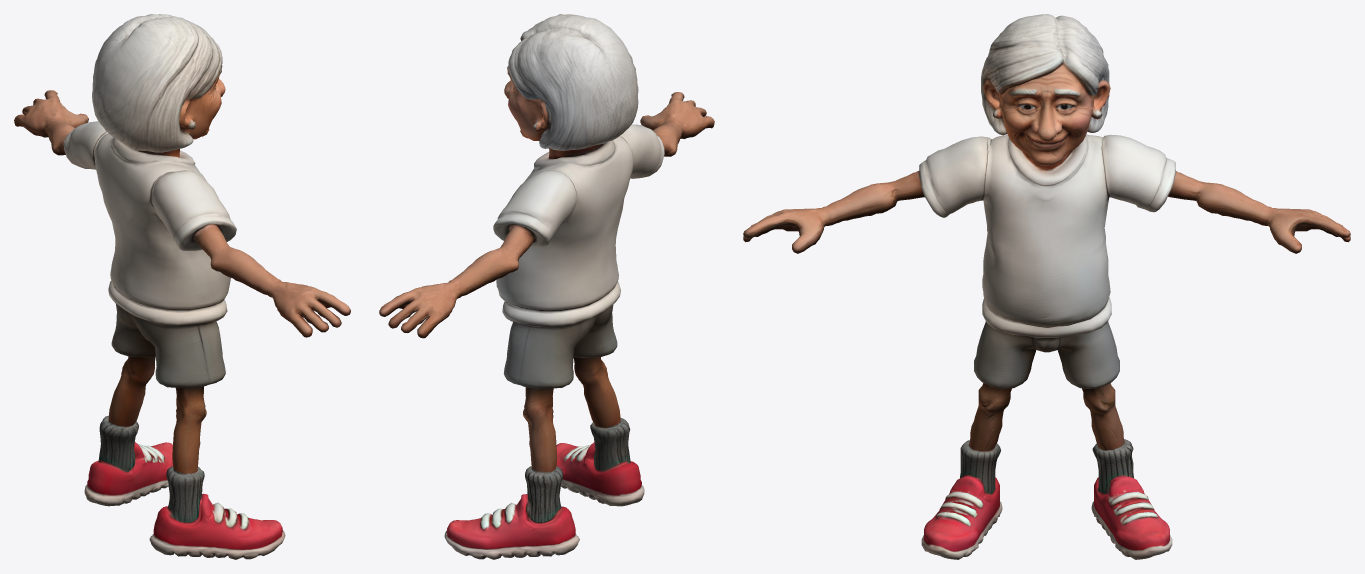
The picture shows the model from 3 angles, left to right: view 1: azimuth 30°, elevation 25°; view 2: azimuth 150°, elevation 25°; view 3: azimuth 270°, elevation 25°; orthographic projection.
Parts seen in each view (by area): view 1: tripo_node_556f6902; view 2: tripo_node_556f6902; view 3: tripo_node_556f6902.
Boxes of the visible parts, <box> form: tripo_node_556f6902: <box>14,14,350,559</box>; tripo_node_556f6902: <box>379,14,714,559</box>; tripo_node_556f6902: <box>743,14,1350,559</box>.
Size of the model in its own units: 24.85 by 92.37 by 100.
1 material, 1 textured.
